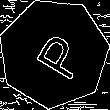P_NW: (23, 24, 85, 82)
